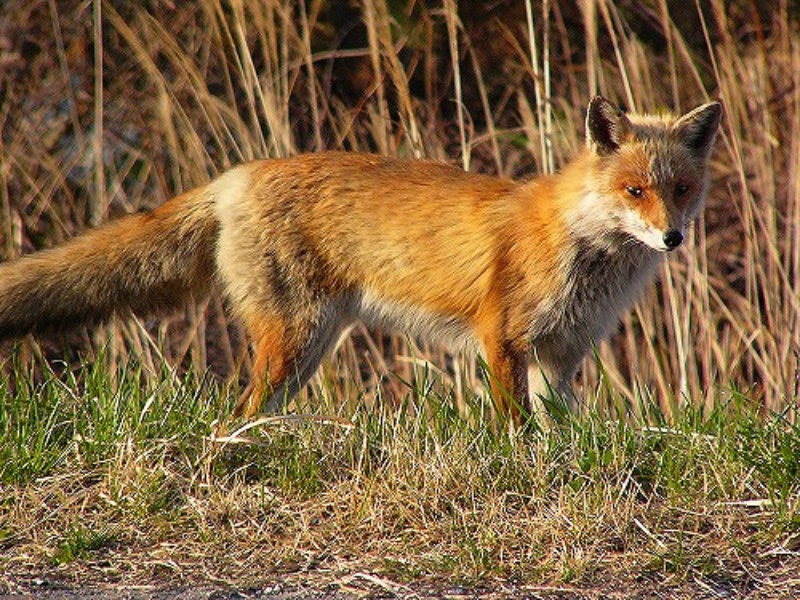fox: (4, 97, 724, 440)
